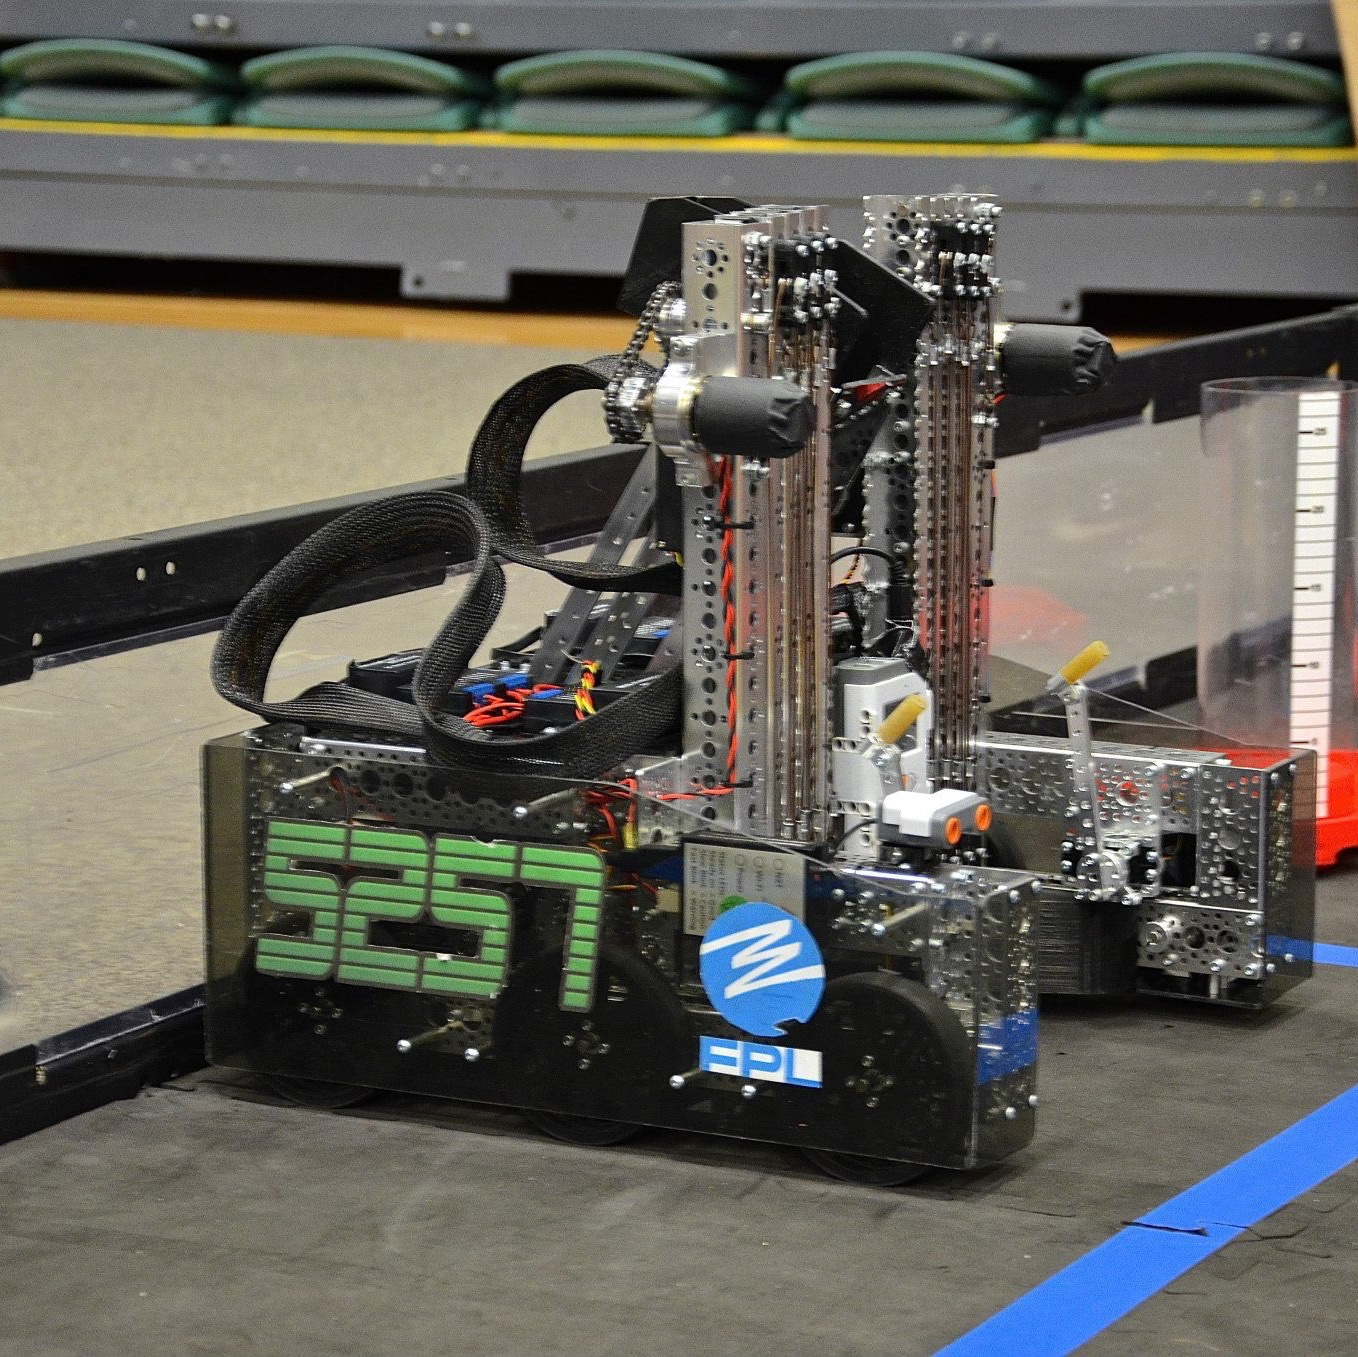robot: (189, 183, 1327, 1186)
